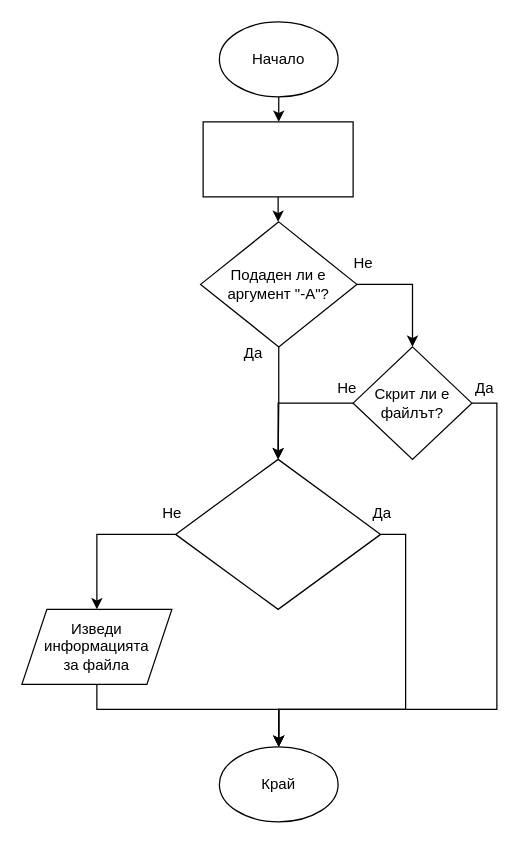
Image size: 531x844. Some labels were removed from this diagram. The shapes that lost their labels are listed below. From the top down, each one's centre as x and y in pixels, then its label:
At point 277,159: "Обработи файл".
At point 277,533: "Дали файлът е текущата или родителската директория?".
